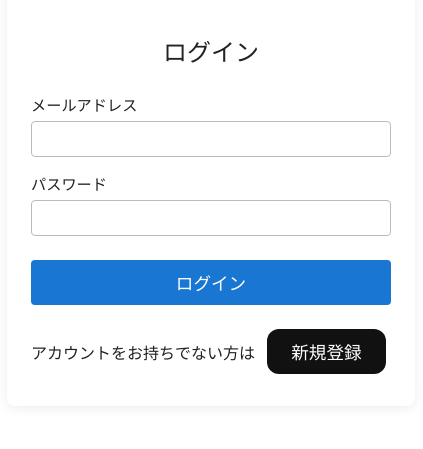
Test case: LoginRegister › APIエラー時にエラーメッセージが表示される
Type "fail@example.com" into the field labelled "メールアドレス" at (211, 139), box [31,121,391,157]
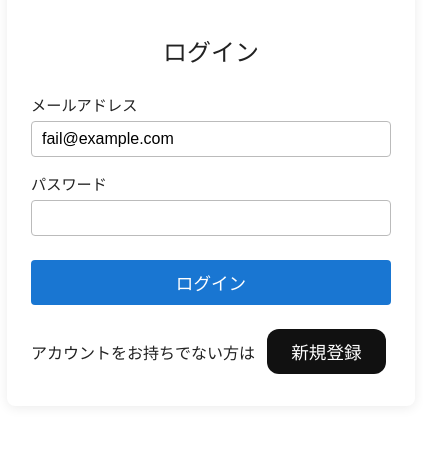
Type "wrongpass" into the password field labelled "パスワード" at (211, 218), box [31,200,391,236]
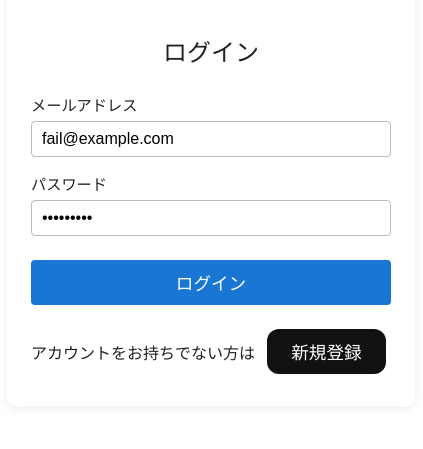
Click the button "ログイン" at (211, 282), box [31,260,391,305]
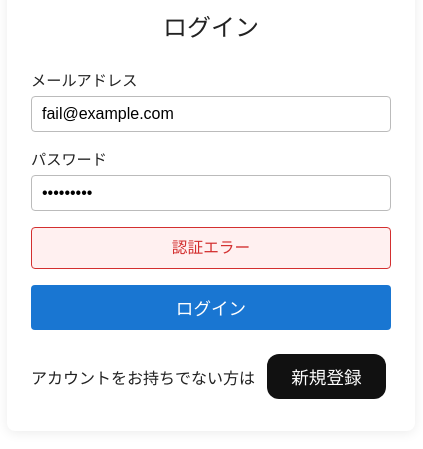
Check: the text "認証エラー" is shown, box [31,227,391,268]
